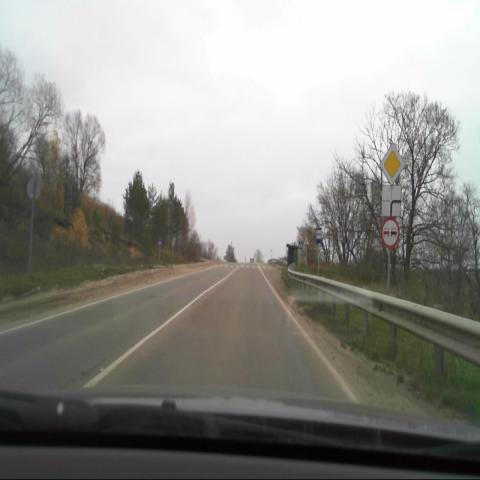8_13: (381, 184, 401, 217)
